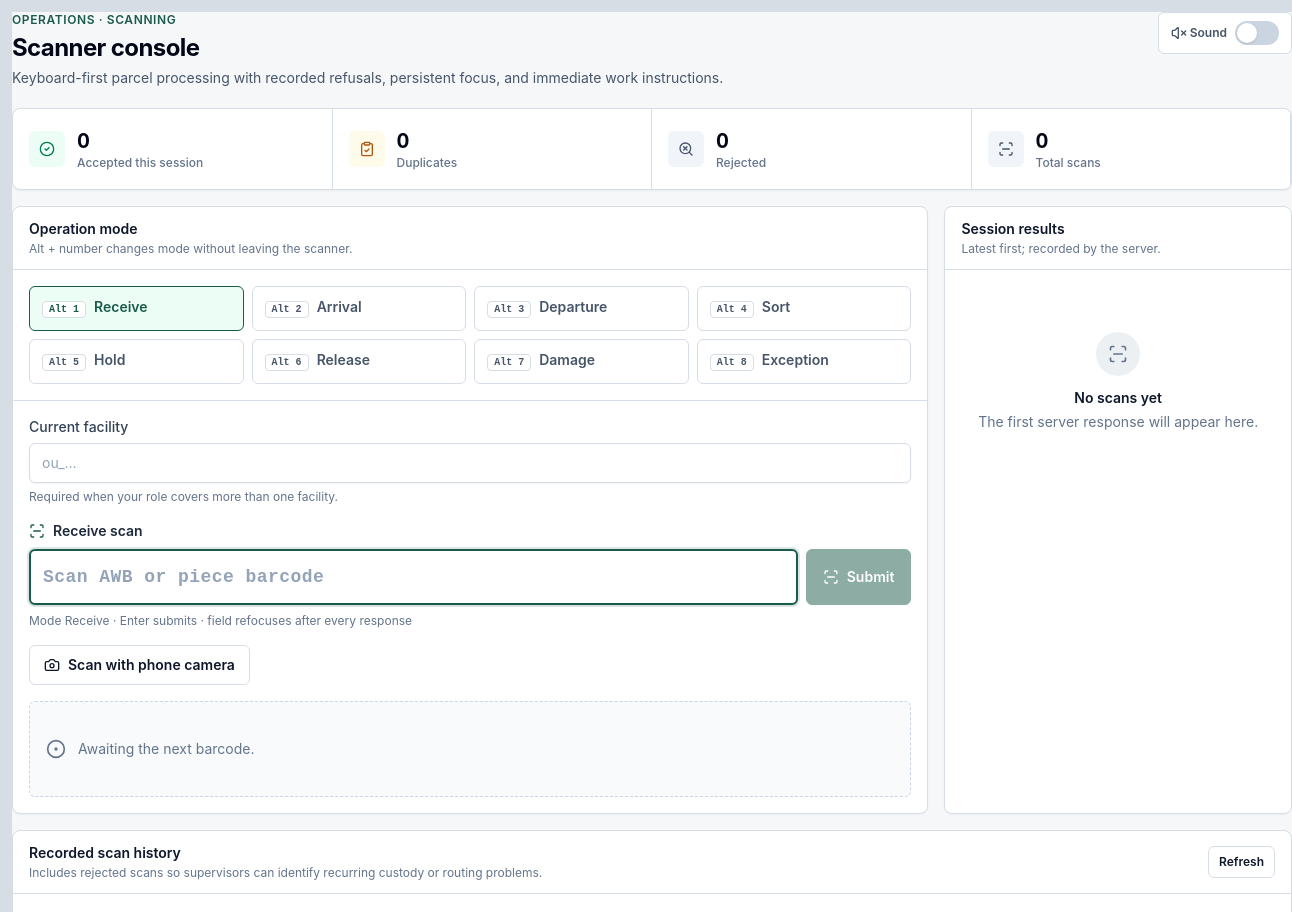
live QA regressions › keeps failed scanner requests visible without a toast and returns keyboard focus
Step 1. Type "INVALID-QA" into the field labelled "Receive scan" → (413, 577), box [29,549,798,605]
Then press Enter
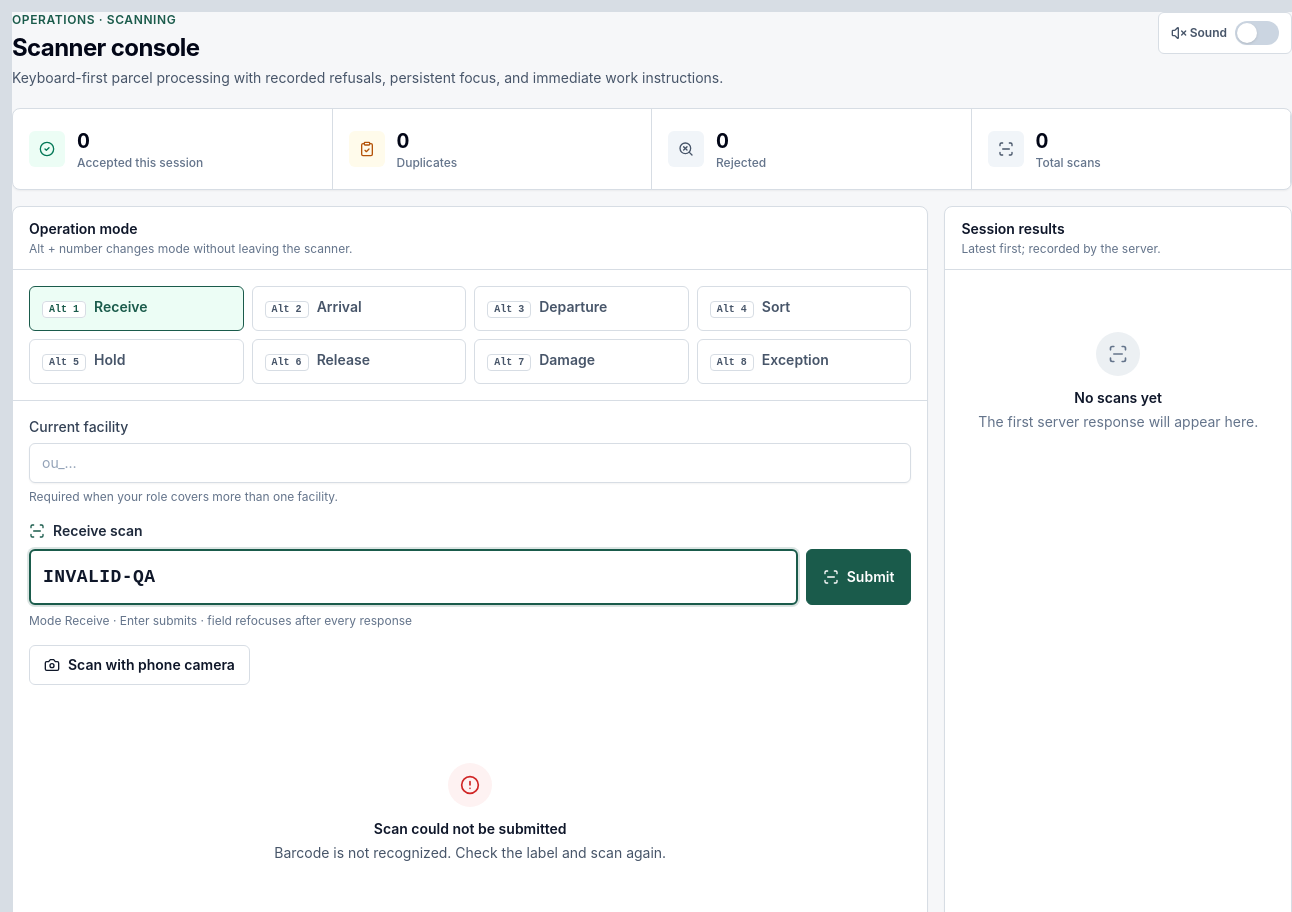
expect the text "Barcode is not recognized. Check the label and scan again." is shown: met, box [274,843,666,863]
